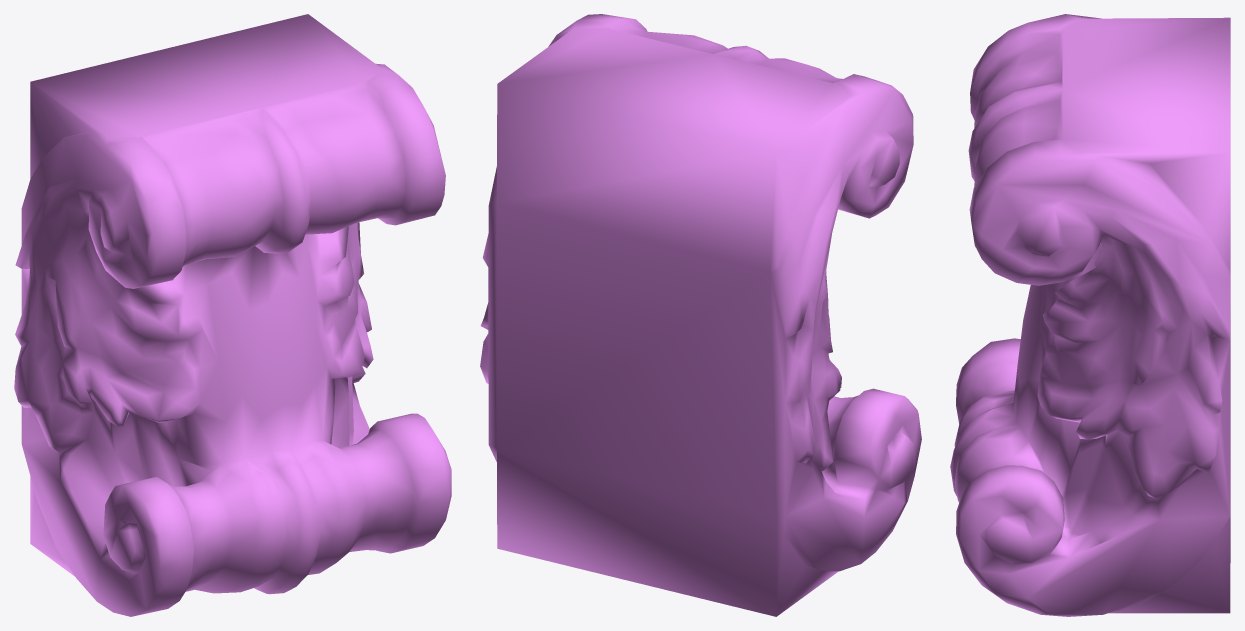
Rendered from SM_CastleDeco_A_002.FBX.
The picture shows the model from 3 angles, left to right: view 1: azimuth 30°, elevation 25°; view 2: azimuth 150°, elevation 25°; view 3: azimuth 270°, elevation 25°; orthographic projection.
Visible parts, largest first — view 1: SM_CastleDeco_A_002; view 2: SM_CastleDeco_A_002; view 3: SM_CastleDeco_A_002.
Boxes of the visible parts, box(x1,y1,x2,y2) form: SM_CastleDeco_A_002: box(14, 14, 451, 616); SM_CastleDeco_A_002: box(480, 14, 921, 616); SM_CastleDeco_A_002: box(950, 14, 1230, 616).
Size of the model in its own units: 76.85 by 106 by 57.22.
